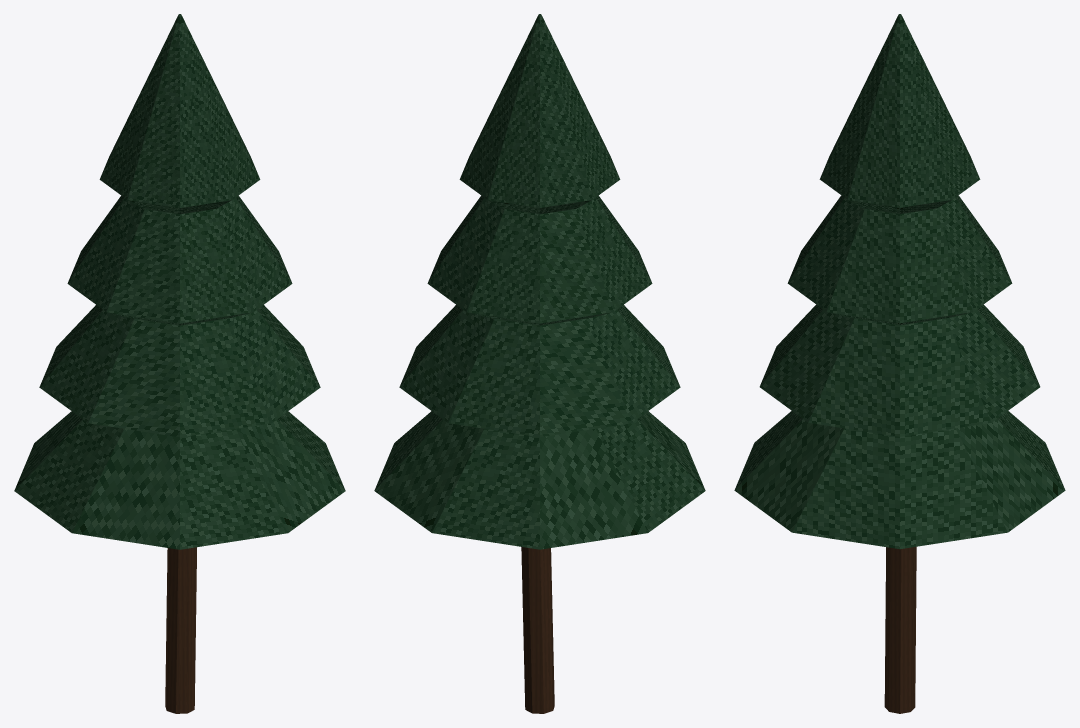
File: level_tree_conifer.glb
3 views of the same model, side by side, from view 1: azimuth 30°, elevation 25°; view 2: azimuth 150°, elevation 25°; view 3: azimuth 270°, elevation 25° (orthographic).
Visible parts, largest first — view 1: level_tree_conifer; view 2: level_tree_conifer; view 3: level_tree_conifer.
Boxes of the visible parts, x1=… form: level_tree_conifer: x1=14, y1=14, x2=345, y2=713; level_tree_conifer: x1=374, y1=14, x2=705, y2=713; level_tree_conifer: x1=734, y1=14, x2=1065, y2=713.
Bounding box in the file's own units: 3.2 × 7.5 × 3.25.
2 materials, 2 textured.
